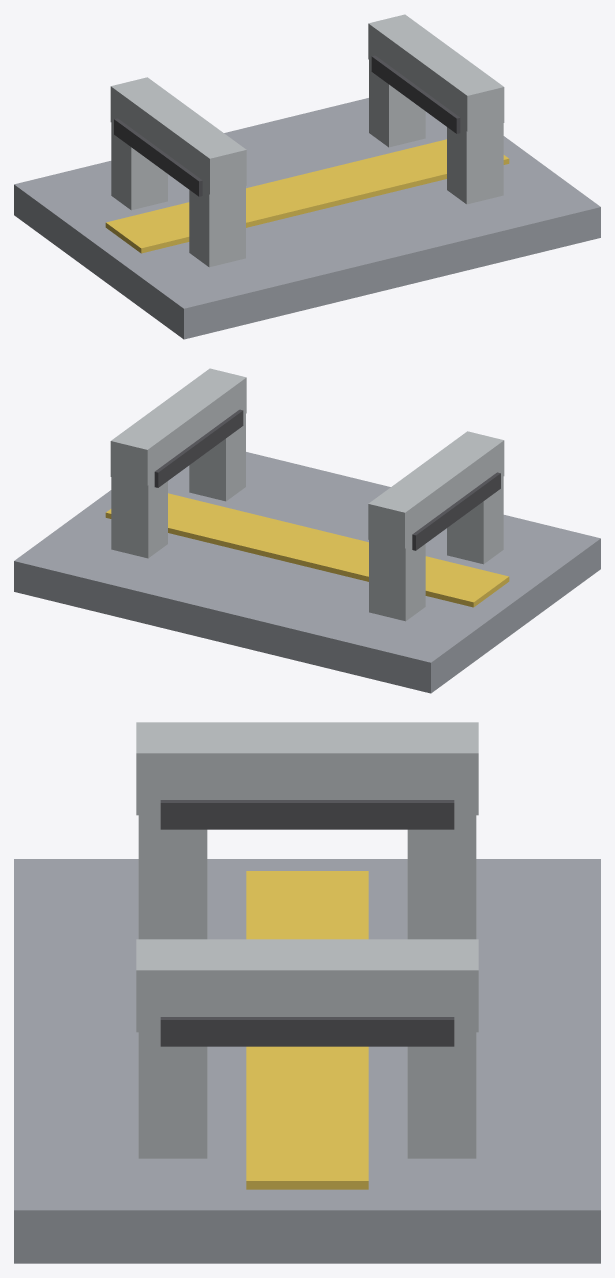
File: prop_foot_restraint.glb
3 views of the same model, one above another, from view 1: azimuth 30°, elevation 25°; view 2: azimuth 150°, elevation 25°; view 3: azimuth 270°, elevation 25° (orthographic). The views are drawn at different scales.
Visible parts, largest first — view 1: prop_foot_restraint; view 2: prop_foot_restraint; view 3: prop_foot_restraint.
Part boxes in pixels (left/top/right/bottom): prop_foot_restraint: left=14, top=14, right=600, bottom=339; prop_foot_restraint: left=14, top=368, right=600, bottom=693; prop_foot_restraint: left=14, top=722, right=600, bottom=1263.
Size of the model in its own units: 0.34 by 0.109 by 0.24.
